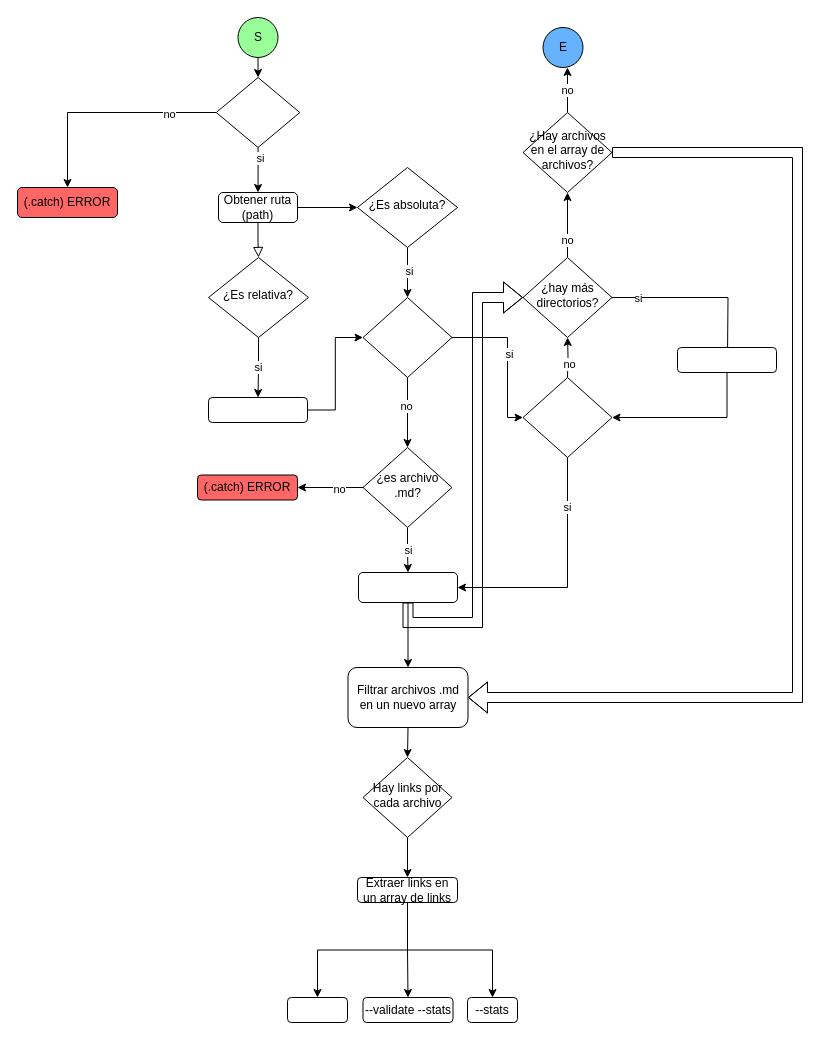
This 820x1040 diagram has some shape labels left out. Here are the shapes that lost their labels. From the top down, the centre of each, then its label:
point (257, 112): ¿Existe ruta? (fs)
point (407, 337): ¿Es directorio?
point (726, 359): Entrar al directorio
point (258, 409): Pasar a absoluta
point (567, 417): ¿Hay archivos?
point (408, 587): Guardar archivos en un Array
point (317, 1009): --validate
